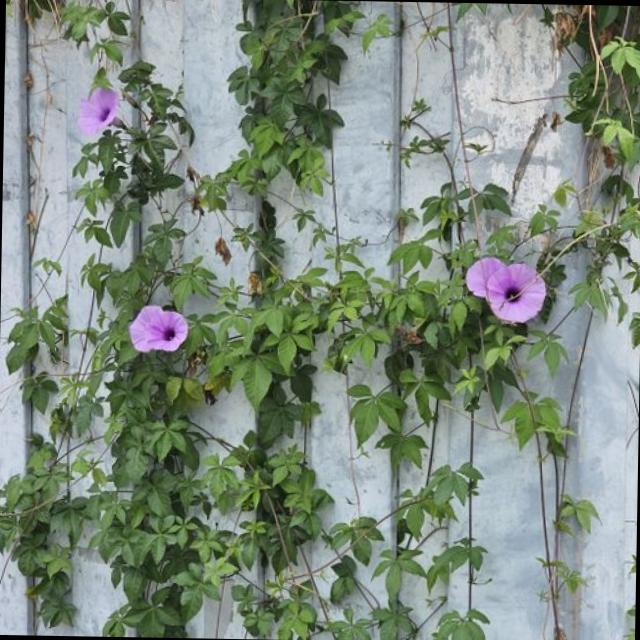ipomoea: (460, 252, 550, 329), (122, 300, 192, 358), (72, 81, 124, 141)
